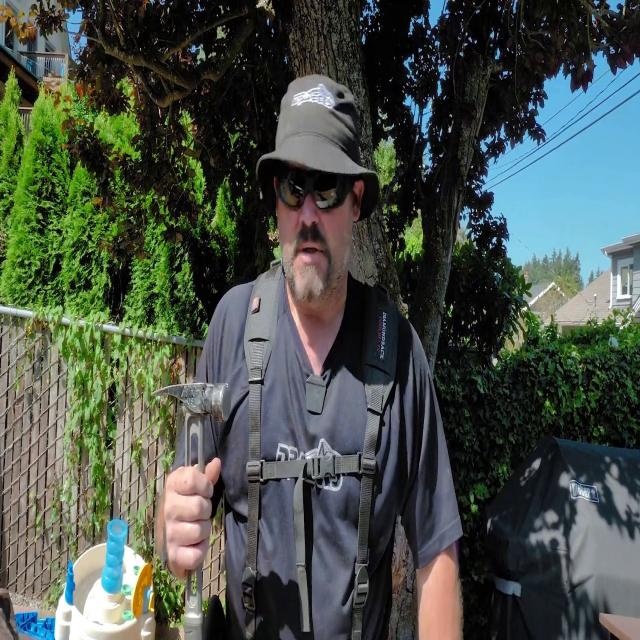hammer: (152, 381, 232, 640)
